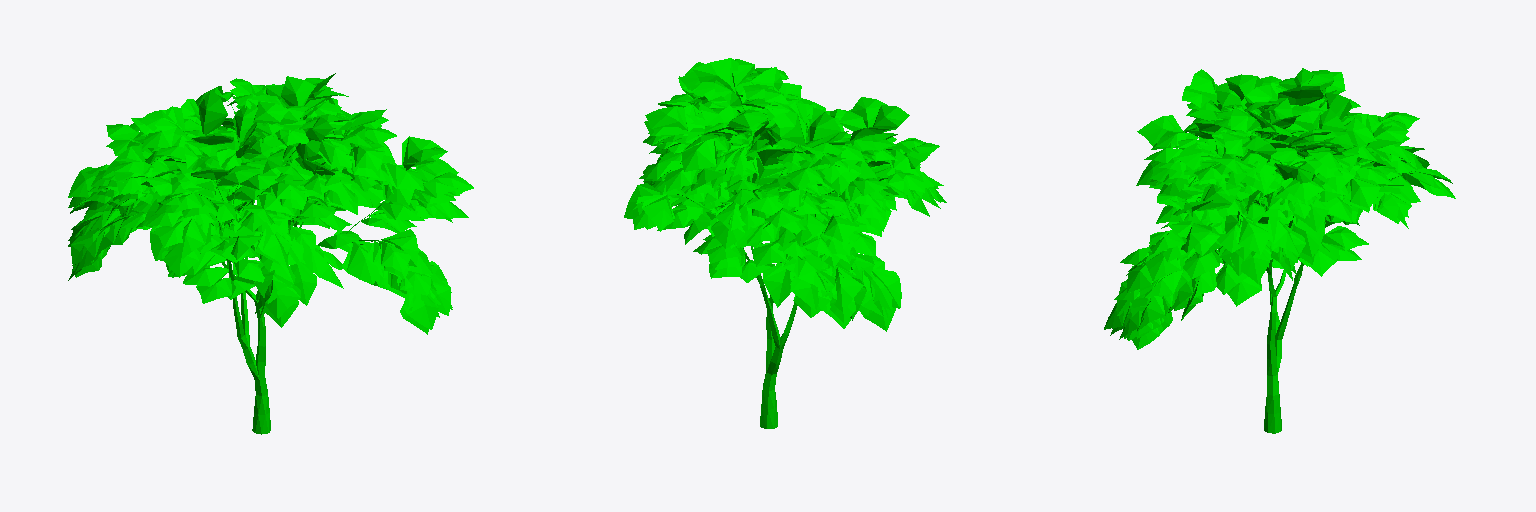
The model's file is tree.obj.
The picture shows the model from 3 angles: view 1: azimuth 30°, elevation 25°; view 2: azimuth 150°, elevation 25°; view 3: azimuth 270°, elevation 25°; orthographic projection.
Parts seen in each view (by area): view 1: default2; view 2: default2; view 3: default2.
Part boxes in pixels (left/top/right/bottom): default2: left=68, top=73, right=473, bottom=434; default2: left=624, top=58, right=946, bottom=428; default2: left=1104, top=68, right=1455, bottom=433.
Bounding box in the file's own units: 3.63 × 3.82 × 3.55.